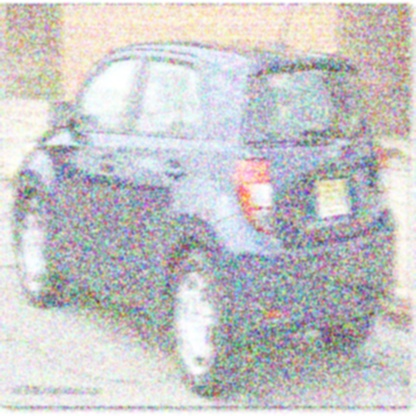Vehicle: (10, 7, 399, 398)
